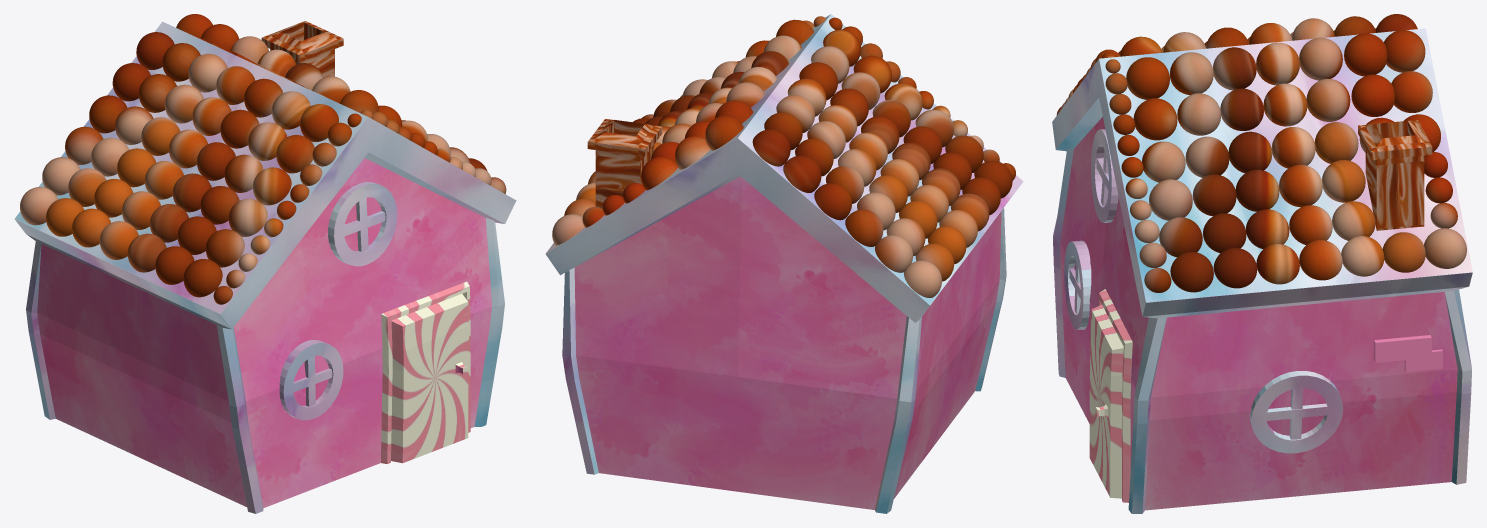
Rendered from Casa1Piso.fbx.
3 renders of one model, left to right at view 1: azimuth 30°, elevation 25°; view 2: azimuth 150°, elevation 25°; view 3: azimuth 270°, elevation 25°, orthographic. The views are drawn at different scales.
Visible parts, largest first — view 1: Casa; view 2: Casa; view 3: Casa.
Part boxes in pixels (box(x1,y1,x2,y2)): Casa: box(14, 14, 516, 513); Casa: box(545, 14, 1023, 513); Casa: box(1052, 14, 1472, 513).
Size of the model in its own units: 1306 by 1136 by 1099.
Materials: 4 (4 with a texture image).
